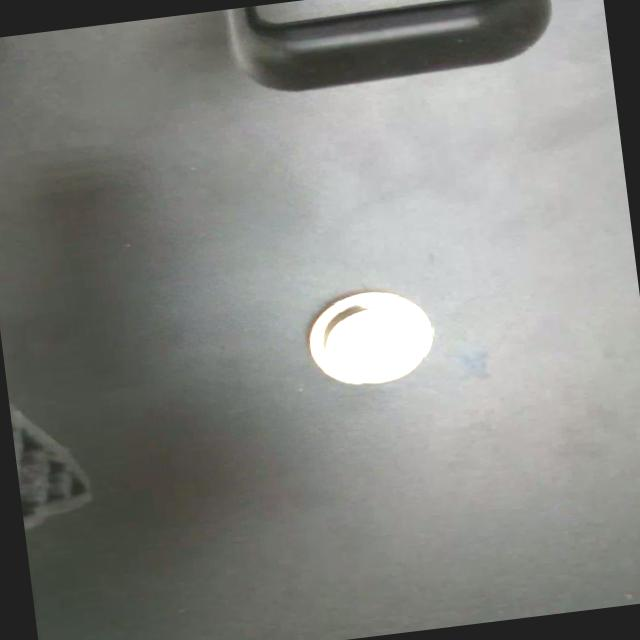sensor: (302, 282, 441, 393)
